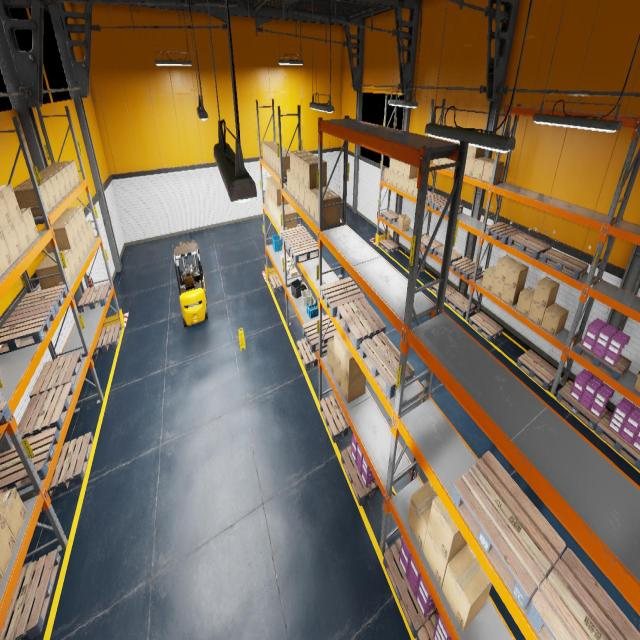box: (442, 544, 492, 631), (423, 527, 467, 588), (428, 496, 466, 562), (407, 481, 438, 551), (0, 488, 27, 541), (13, 183, 51, 216), (16, 178, 57, 208), (35, 257, 72, 289), (41, 221, 75, 253), (25, 174, 62, 203), (42, 249, 77, 277), (0, 518, 16, 576), (340, 368, 366, 403), (541, 303, 569, 335), (532, 276, 560, 308), (39, 166, 72, 192), (316, 192, 340, 226), (341, 344, 363, 381), (44, 163, 76, 188), (0, 184, 21, 222), (2, 223, 22, 262), (39, 170, 67, 197), (310, 187, 332, 220), (304, 158, 326, 190), (53, 216, 80, 242), (50, 161, 80, 184), (20, 207, 39, 243), (58, 210, 84, 236), (528, 300, 554, 326), (505, 260, 529, 288), (13, 215, 31, 252), (494, 255, 516, 282), (299, 155, 318, 185), (294, 152, 314, 180), (63, 206, 87, 229), (0, 232, 13, 274), (290, 149, 309, 177), (516, 288, 535, 316), (502, 282, 524, 306), (482, 160, 504, 182), (472, 157, 493, 180), (0, 191, 12, 231), (334, 331, 345, 367), (482, 266, 496, 292), (280, 208, 297, 229), (277, 204, 293, 226), (272, 148, 287, 170), (274, 184, 289, 206), (266, 144, 282, 164), (269, 146, 284, 167), (275, 151, 289, 173), (271, 182, 286, 202), (491, 276, 504, 299), (71, 242, 81, 269), (278, 154, 290, 176), (264, 142, 277, 162), (262, 140, 275, 160), (327, 340, 334, 374), (76, 236, 85, 262), (466, 145, 484, 158), (334, 355, 341, 388), (80, 230, 89, 255), (403, 164, 418, 179), (414, 182, 428, 198), (464, 156, 475, 176), (398, 214, 410, 231), (86, 220, 95, 242), (84, 225, 92, 248), (304, 186, 310, 213), (408, 178, 417, 195), (268, 179, 276, 198), (266, 177, 274, 195), (634, 370, 640, 393), (290, 174, 295, 198), (398, 162, 406, 176), (300, 181, 304, 208), (295, 177, 299, 203), (394, 160, 401, 174), (286, 169, 290, 193), (402, 177, 408, 193), (447, 158, 455, 170), (389, 158, 395, 172), (286, 258, 294, 268), (274, 203, 278, 222), (398, 176, 403, 190), (393, 173, 398, 187), (388, 171, 393, 185), (384, 168, 389, 182), (0, 570, 4, 586), (280, 254, 288, 262), (290, 268, 297, 277), (440, 158, 448, 165), (286, 265, 292, 274), (272, 200, 275, 218), (265, 189, 268, 207), (267, 193, 270, 210), (433, 158, 440, 165), (270, 196, 272, 214), (0, 512, 3, 523), (286, 257, 292, 262), (0, 270, 2, 276), (0, 227, 1, 232)
forklift: (174, 240, 208, 327)
pallets: (451, 450, 566, 610), (526, 548, 640, 640), (383, 536, 437, 638), (0, 549, 61, 639), (0, 426, 60, 494), (360, 332, 414, 398), (17, 382, 75, 440), (48, 432, 94, 497), (594, 410, 640, 470), (0, 305, 56, 354), (556, 380, 608, 430), (337, 298, 386, 350), (29, 351, 83, 398), (341, 444, 378, 506), (575, 340, 632, 380), (9, 284, 68, 316), (320, 276, 364, 318), (516, 349, 557, 389), (541, 248, 588, 280), (320, 393, 350, 442), (302, 314, 338, 352), (508, 232, 552, 259), (77, 282, 112, 312), (92, 322, 122, 356), (469, 311, 503, 341), (296, 338, 325, 370), (287, 236, 318, 264), (485, 222, 522, 244), (446, 292, 476, 317), (280, 226, 311, 249), (451, 257, 482, 280), (416, 610, 439, 640), (433, 245, 462, 266), (429, 283, 457, 302), (434, 200, 463, 216), (420, 235, 443, 254), (0, 401, 12, 436), (426, 193, 448, 209), (379, 238, 399, 254), (269, 273, 283, 293), (380, 210, 399, 223)
